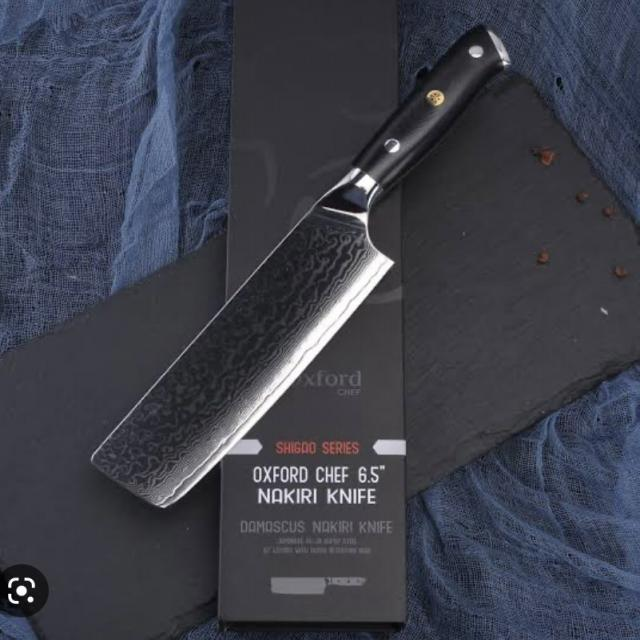Knife: (67, 11, 569, 542)
